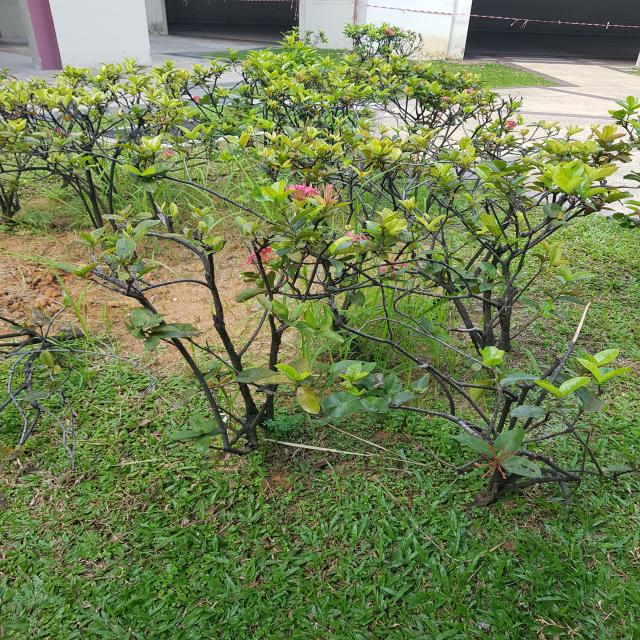Aquatic-Ginger: (439, 96, 451, 104), (465, 88, 475, 94)
Chinese-Ixora: (474, 445, 519, 480), (238, 245, 278, 273), (283, 182, 320, 202), (378, 260, 409, 278), (319, 183, 343, 205), (344, 232, 368, 244), (53, 127, 73, 137), (162, 147, 174, 159), (505, 120, 517, 130), (634, 208, 640, 220), (192, 95, 201, 102), (532, 140, 537, 145)
